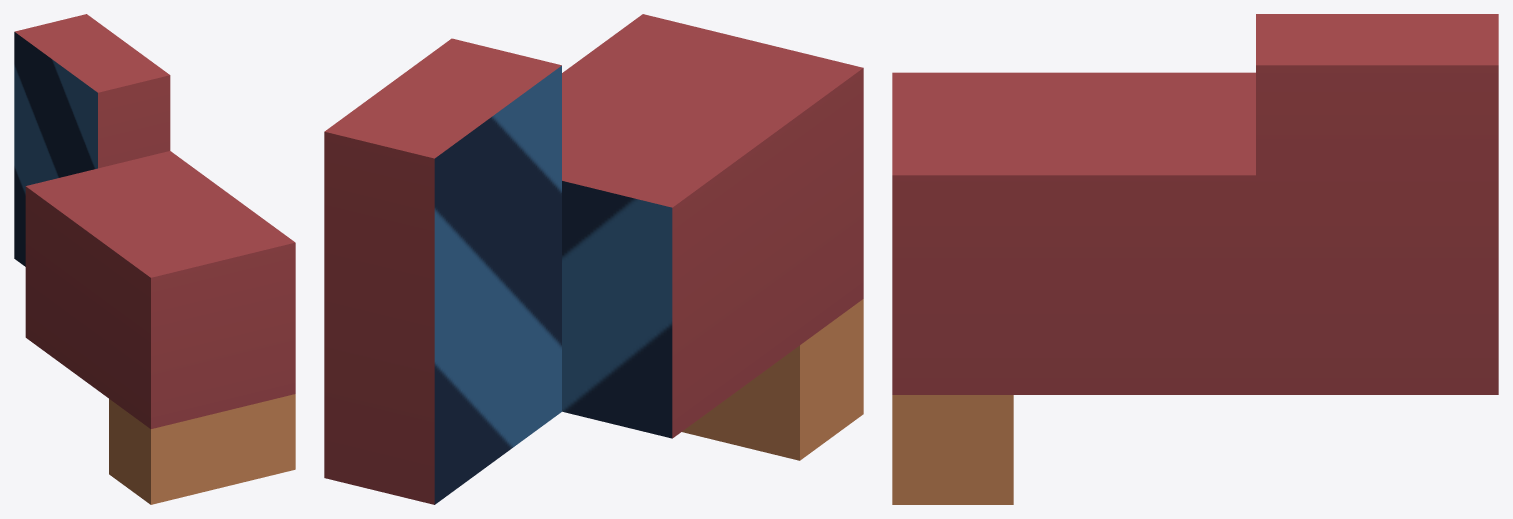
Rendered from PartI.fbx.
3 views of the same model, side by side, from view 1: azimuth 30°, elevation 25°; view 2: azimuth 150°, elevation 25°; view 3: azimuth 270°, elevation 25° (orthographic). The views are drawn at different scales.
Parts seen in each view (by area): view 1: PartI; view 2: PartI; view 3: PartI.
Part boxes in pixels (x1,y1,x2,y2): PartI: (14,14,295,504); PartI: (324,14,863,504); PartI: (892,14,1498,504).
Bounding box in the file's own units: 20 × 40 × 50.
